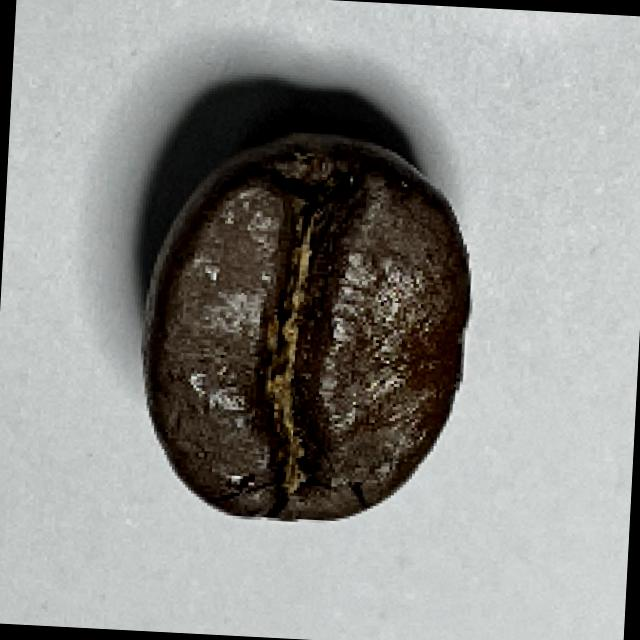bean: (132, 122, 482, 532)
